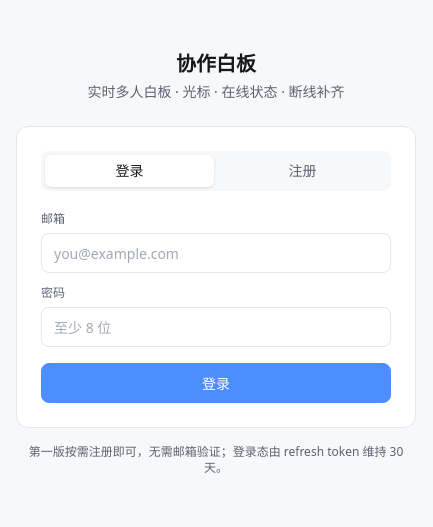
Test: 登录 / 注册页 › 默认是登录表单，切到注册后多出昵称输入框
Expected: the field labelled "邮箱" is shown, [41,233,391,273]
Expected: the password field labelled "密码" is shown, [41,307,391,347]
What coordinates should you click on to do the following:
click the button "注册"
I would click on:
 (302, 171)
Its box is [218,155,387,187].
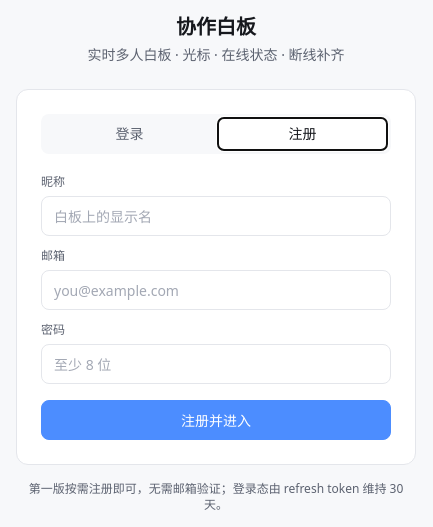
Expected: the field labelled "昵称" is shown, [41,196,391,236]
Expected: the button "注册并进入" is shown, [41,400,391,440]
